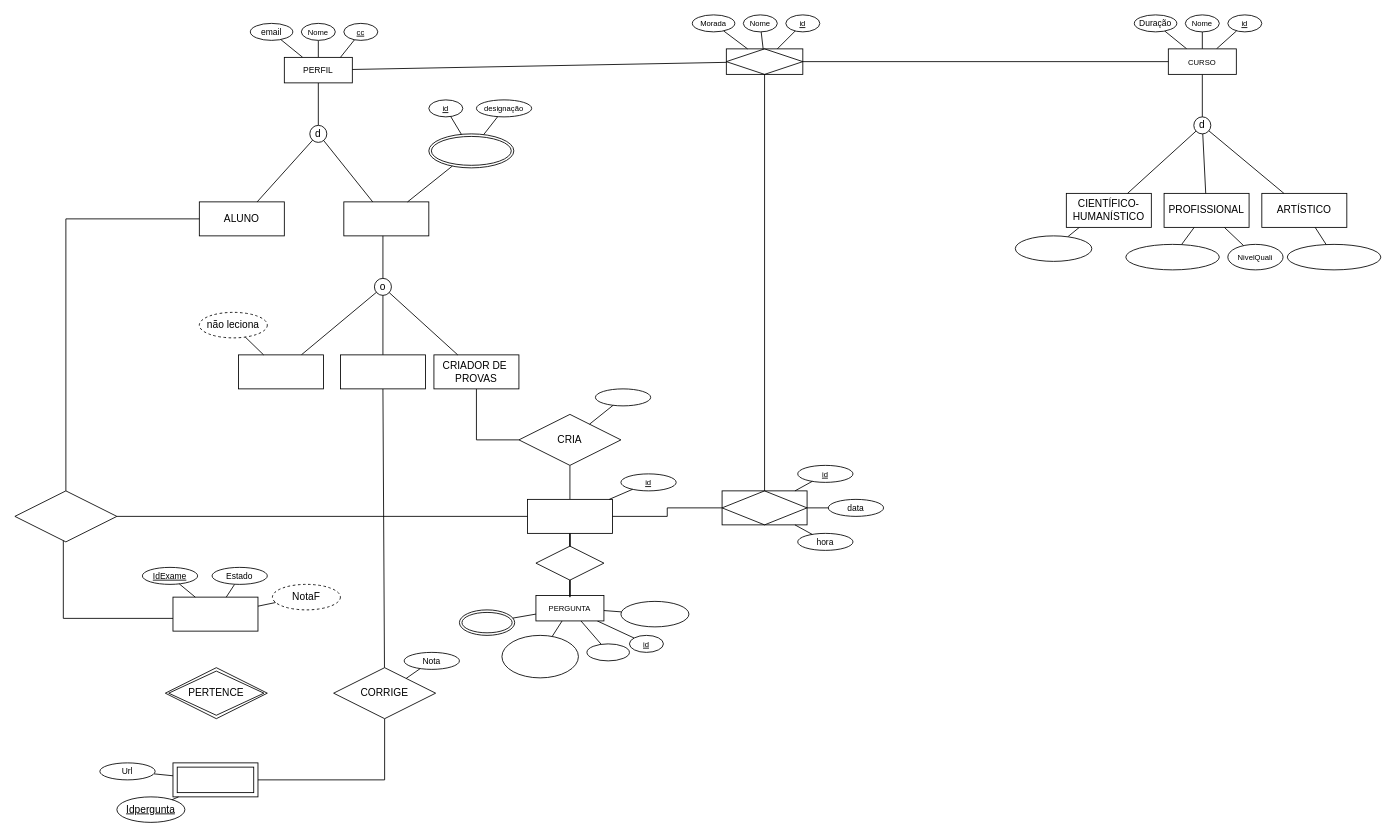
Some shapes in this 1396 by 837 pixel diagram are drawn without their labels. The box of each missing label's shape, as (x1, y1, x2, y2) in pixels:
AreaFormação: (1014, 235, 1092, 261)
CLASSIFICADOR: (340, 354, 425, 389)
ComTecnologica: (1125, 244, 1219, 270)
Cotação: (586, 643, 629, 661)
Descrição dos critérios de correção: (501, 635, 578, 678)
Disciplina: (428, 133, 514, 168)
DominioArtistico: (1286, 244, 1381, 270)
EXAME: (172, 596, 258, 631)
Exemplos: (459, 609, 515, 635)
Fase: (595, 388, 651, 406)
INSTITUIÇÃO: (725, 48, 803, 74)
LOCAL_PROVA: (721, 490, 807, 525)
PROFESSOR: (343, 201, 429, 236)
PROVA: (527, 499, 612, 533)
REALIZA: (14, 490, 117, 542)
RESPOSTA: (172, 762, 258, 797)
texto da pergunta: (620, 601, 689, 627)
TÊM: (535, 545, 604, 580)
VIGILANTE: (238, 354, 323, 389)
